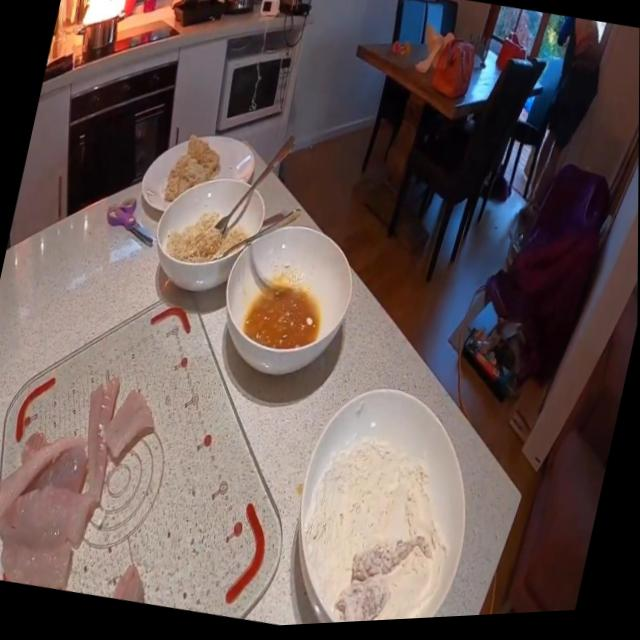fire: (77, 0, 137, 36)
